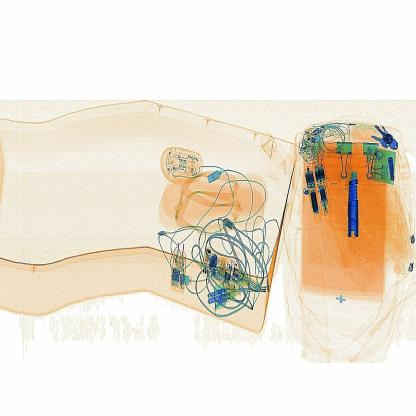pliers: (340, 164, 366, 243)
